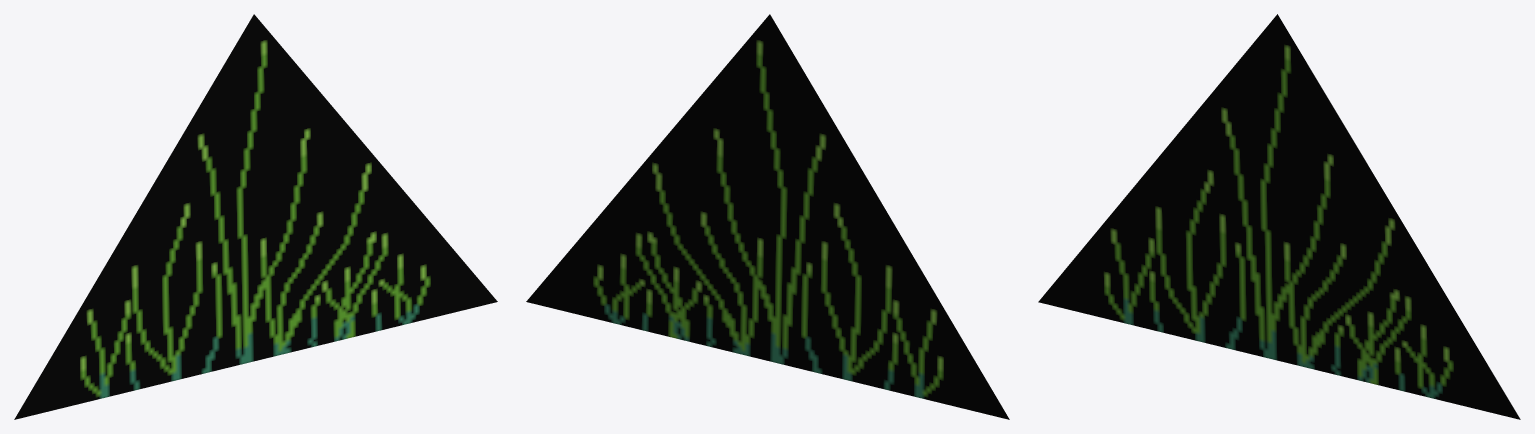
Rendered from Grass_Triangle.fbx.
The picture shows the model from 3 angles, left to right: view 1: azimuth 30°, elevation 25°; view 2: azimuth 150°, elevation 25°; view 3: azimuth 330°, elevation 25°; orthographic projection.
Parts seen in each view (by area): view 1: Cube; view 2: Cube; view 3: Cube.
Boxes of the visible parts, x1=… form: Cube: x1=14, y1=14, x2=497, y2=419; Cube: x1=526, y1=14, x2=1009, y2=419; Cube: x1=1038, y1=14, x2=1520, y2=419.
Size of the model in its own units: 100 by 68.6 by 1.12e-05.
1 material, 1 textured.
